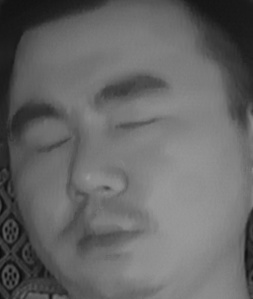blink: (114, 106, 161, 137), (31, 126, 73, 158)
mouth: (58, 206, 148, 263)
